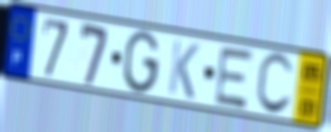7: (80, 20, 109, 88), (40, 16, 71, 79)
C: (253, 51, 296, 118)
E: (212, 44, 257, 112)
G: (120, 28, 162, 96)
K: (166, 37, 201, 102)
